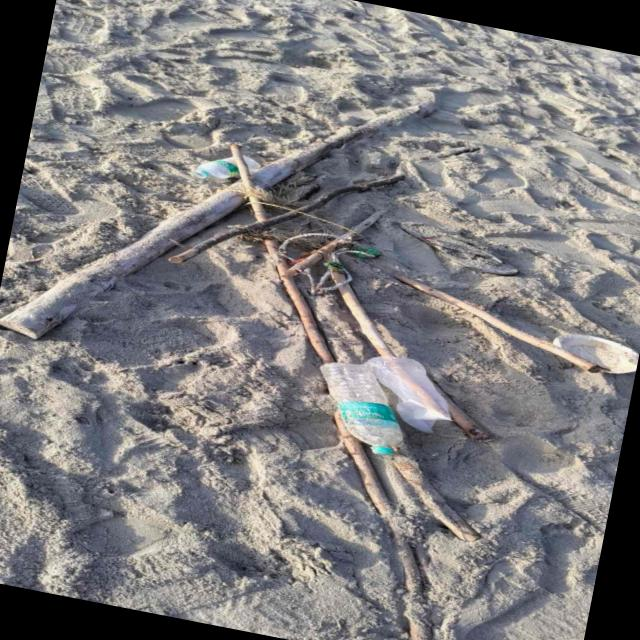chai_nhua: (322, 363, 404, 456), (191, 158, 239, 179), (244, 157, 261, 171)
dep: (401, 222, 520, 276)
ly_hop_giay: (556, 335, 639, 374)
nhua: (365, 357, 453, 433)
rac_huu_co: (0, 182, 263, 338), (396, 275, 606, 373), (246, 94, 435, 186), (335, 409, 423, 592), (265, 240, 335, 364), (396, 452, 479, 541), (287, 209, 389, 276), (168, 213, 300, 263), (338, 281, 395, 357), (300, 172, 404, 212), (443, 394, 492, 441)
